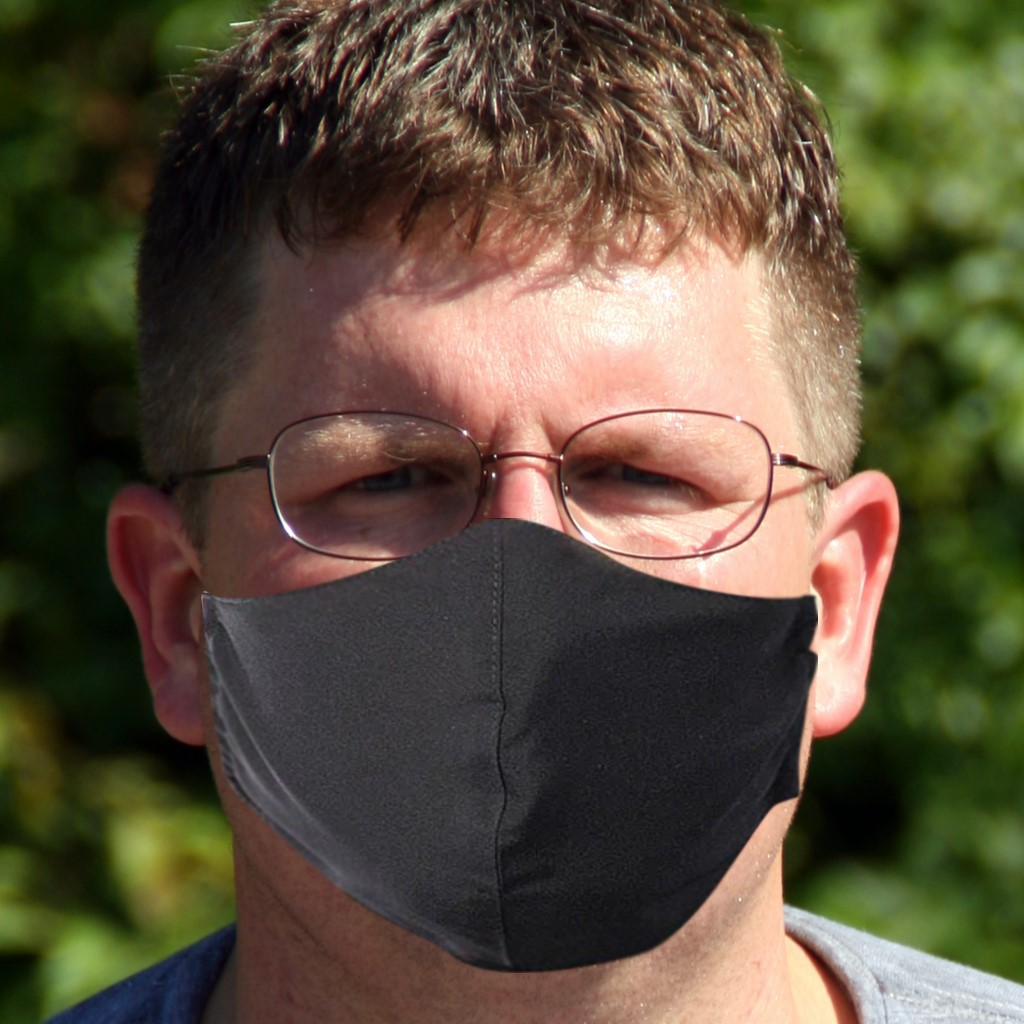con_mascara: (137, 16, 859, 960)
